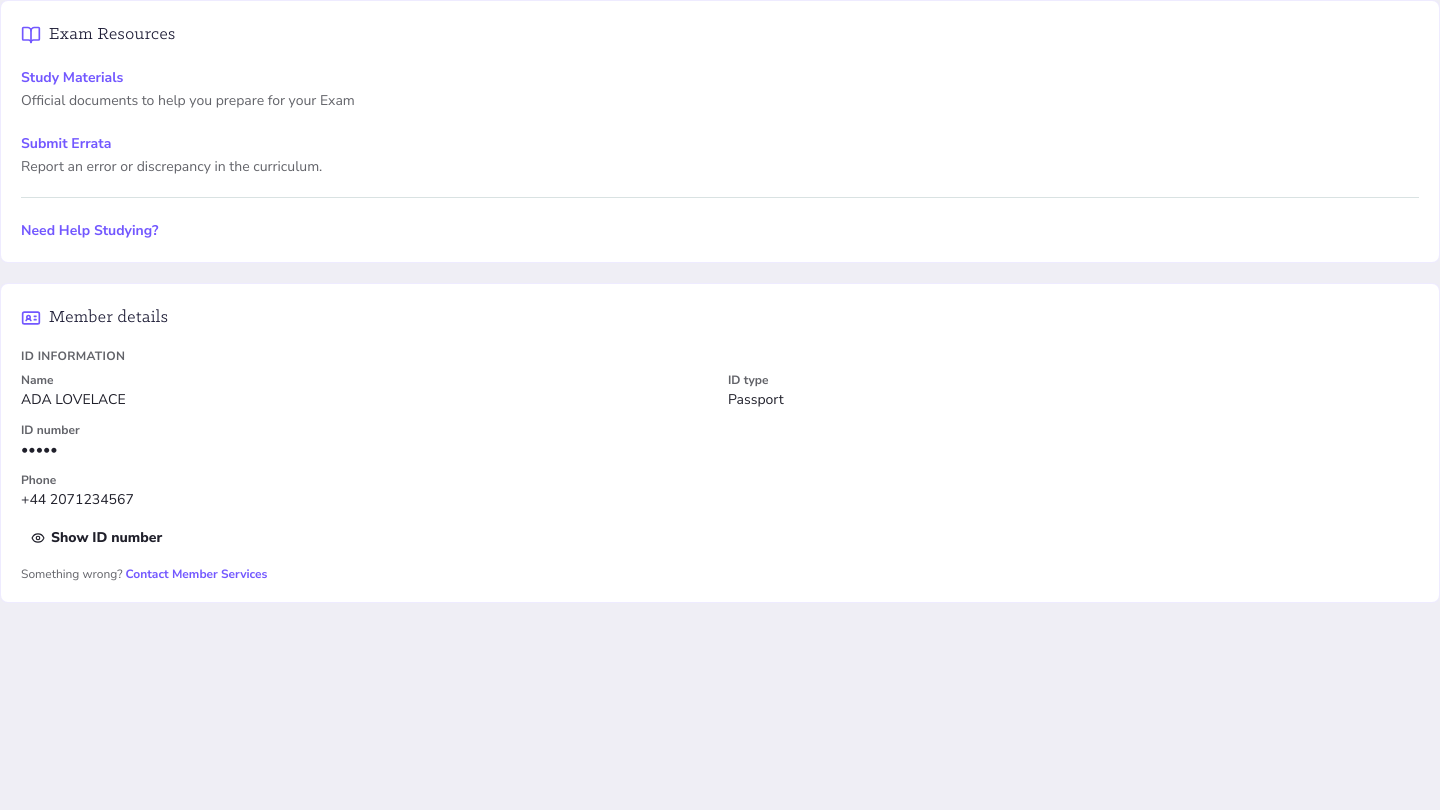
the member details block › shows the ID on file, read-only, masking the number until asked
The width and height of the screenshot is (1440, 810).
Expected: the heading "Member details" is shown, [21, 308, 168, 328]
Expected: the text "ADA LOVELACE" is shown, [21, 390, 126, 409]
Step 1. Click the button "Show ID number" → click(97, 538), box [21, 522, 172, 554]
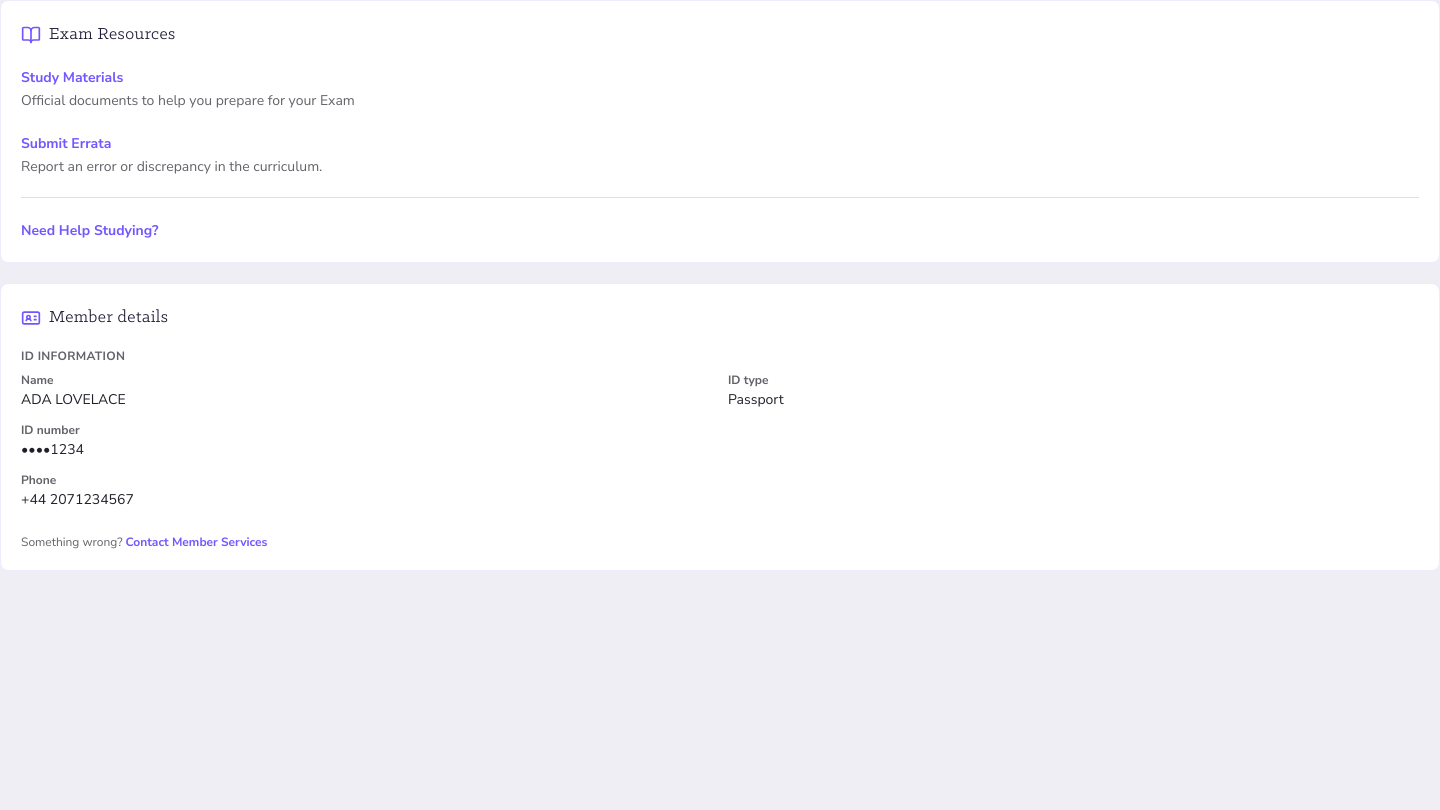
Result: the text "••••1234" is shown at [21, 440, 84, 459]
Result: the button "Show ID number" is gone
